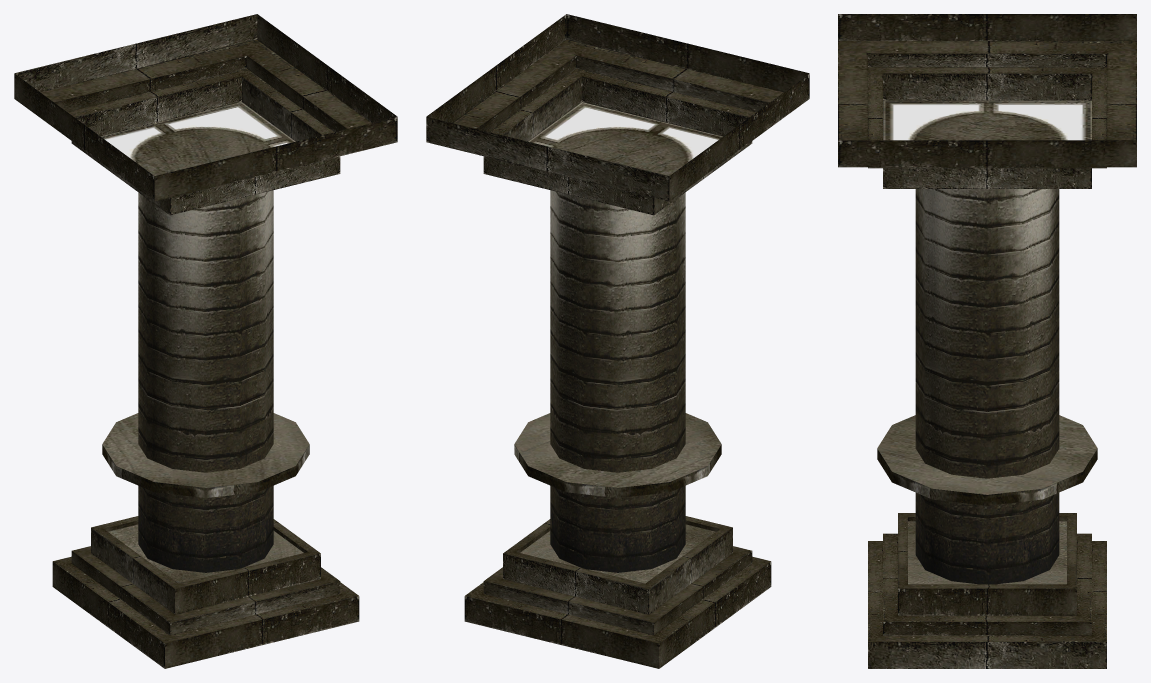
File: colomn_w_table.fbx
3 views of the same model, side by side, from view 1: azimuth 30°, elevation 25°; view 2: azimuth 150°, elevation 25°; view 3: azimuth 270°, elevation 25° (orthographic). The views are drawn at different scales.
Visible parts, largest first — view 1: mesh_0, mesh_1; view 2: mesh_0, mesh_1; view 3: mesh_0, mesh_1.
Part boxes in pixels (x1,y1,x2,y2): mesh_0: (14, 14, 397, 668); mesh_1: (138, 190, 273, 572); mesh_0: (426, 14, 809, 668); mesh_1: (550, 190, 685, 572); mesh_0: (838, 14, 1136, 668); mesh_1: (915, 189, 1059, 584).
Bounding box in the file's own units: 200 × 400 × 200.
Materials: 2 (2 with a texture image).
